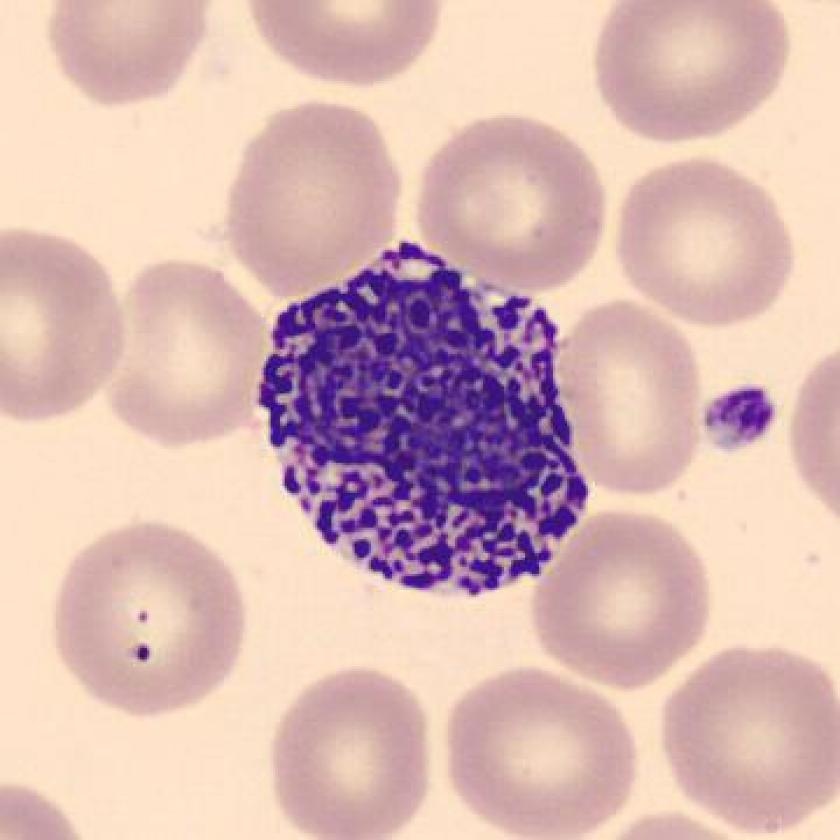basophil: (237, 233, 605, 608)
